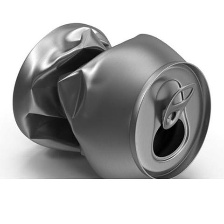can: (11, 21, 216, 178)
